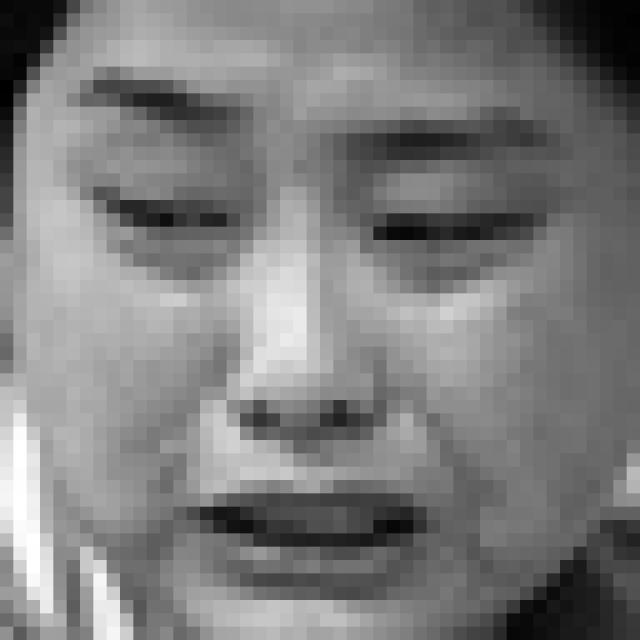sad: (64, 62, 557, 603)
